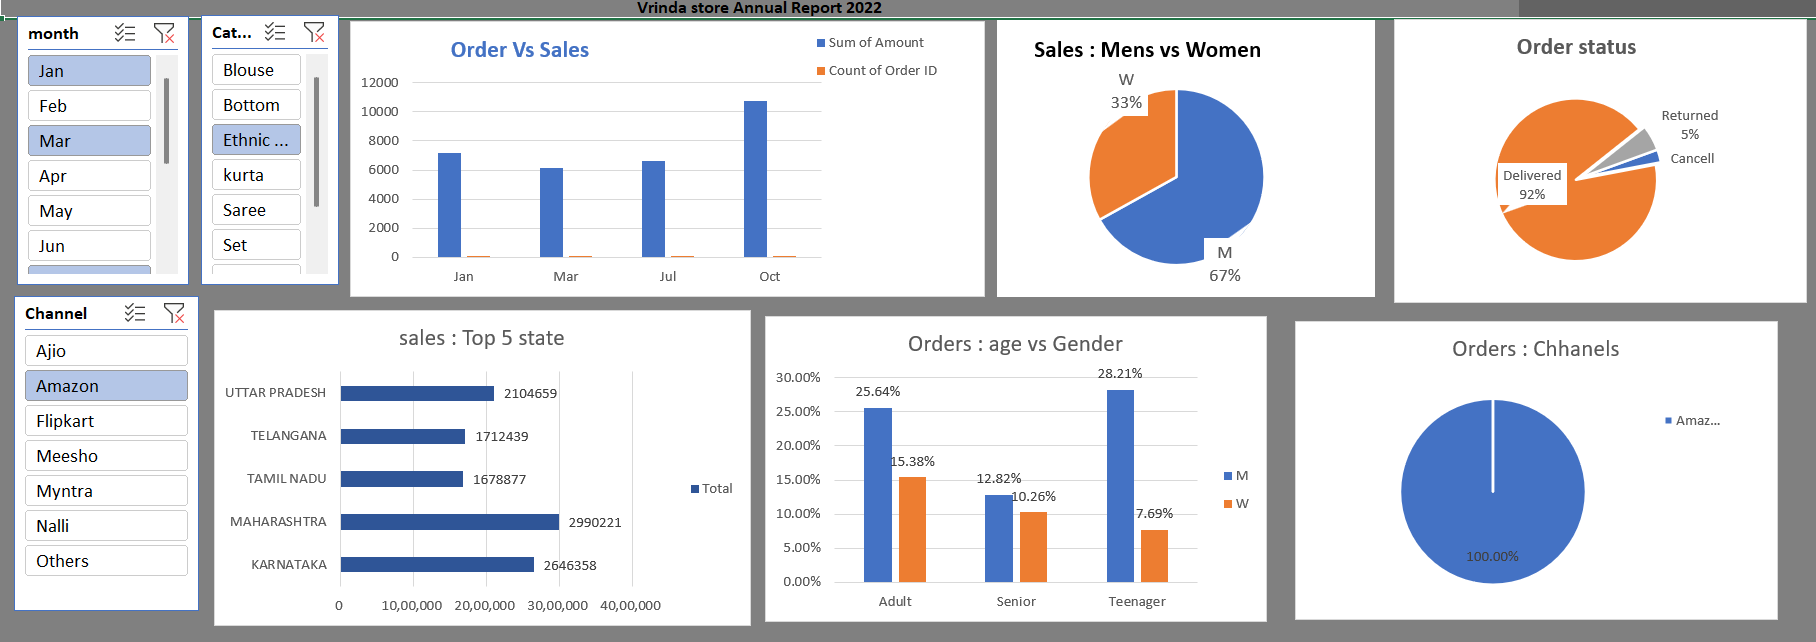

Layout of this report page (visuals, bound fields, positions):
{"tool":"tableau","page":{"name":"Dashboard 1","canvas":[1000,1000],"units":"permille","ordinal":0},"visuals":[{"type":"worksheet","title":"Sheet 5","mark":"Automatic","rows":["Attrition"],"cols":["OverTime","Department"],"box":[5,10,195,980]},{"type":"worksheet","title":"Sheet 1","mark":"Automatic","rows":["Attrition"],"cols":["Attrition"],"box":[200,10,500,227.6]},{"type":"worksheet","title":"Sheet 2","mark":"Pie","box":[700,10,195,227.6]},{"type":"legend","title":"Sheet 3","param":"[federated.0s0ip4q1ws8l401d2s1za0jbfz5q].[none:Department:nk]","box":[895,10,100,116.2]},{"type":"legend","title":"Sheet 6","param":"[federated.0s0ip4q1ws8l401d2s1za0jbfz5q].[sum:WorkLifeBalance:qk]","box":[895,126.2,100,91.2]},{"type":"legend","title":"Sheet 2","param":"[federated.0s0ip4q1ws8l401d2s1za0jbfz5q].[none:Attrition:nk]","box":[895,217.5,100,90]},{"type":"worksheet","title":"Sheet 6","mark":"Automatic","box":[200,237.6,368.8,376.2]},{"type":"worksheet","title":"Sheet 7","mark":"Automatic","rows":["EnvironmentSatisfaction"],"cols":["Department","Gender"],"box":[568.8,237.6,326.2,376.2]},{"type":"legend","title":"Sheet 2","param":"[federated.0s0ip4q1ws8l401d2s1za0jbfz5q].[sum:EmployeeCount:qk]","box":[895,307.5,100,63.8]},{"type":"worksheet","title":"Sheet 4","mark":"Automatic","rows":["MonthlyIncome"],"cols":["Monthly Income (bin)"],"box":[200,613.8,368.8,376.2]},{"type":"worksheet","title":"Sheet 3","mark":"Automatic","rows":["EmployeeCount"],"cols":["Attrition","Department"],"box":[568.8,613.8,326.2,376.2]}]}

Visuals, with their boxes on the dashboard's canvas, which has no fixed pixel size, in thousandths of its width and height (x1, y1, x2, y2). These are canvas units, not pixel positions in the 1816x642 screenshot, which may show the page scaled, cropped or inside an application window:
"Sheet 5" worksheet: box(5, 10, 200, 990)
"Sheet 1" worksheet: box(200, 10, 700, 238)
"Sheet 2" worksheet (Pie marks): box(700, 10, 895, 238)
"Sheet 3" legend: box(895, 10, 995, 126)
"Sheet 6" legend: box(895, 126, 995, 217)
"Sheet 2" legend: box(895, 218, 995, 308)
"Sheet 6" worksheet: box(200, 238, 569, 614)
"Sheet 7" worksheet: box(569, 238, 895, 614)
"Sheet 2" legend: box(895, 308, 995, 371)
"Sheet 4" worksheet: box(200, 614, 569, 990)
"Sheet 3" worksheet: box(569, 614, 895, 990)
